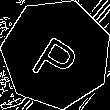P_NE: (27, 22, 86, 85)
